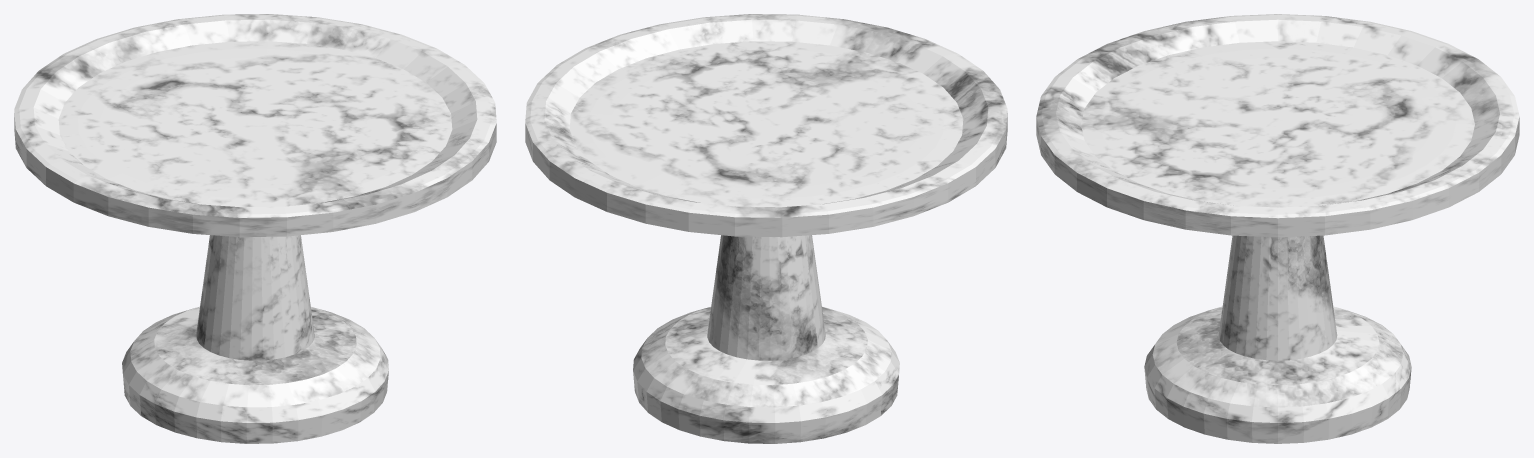
Rendered from MESAuNITY.fbx.
3 renders of one model, left to right at view 1: azimuth 30°, elevation 25°; view 2: azimuth 150°, elevation 25°; view 3: azimuth 270°, elevation 25°, orthographic.
Visible parts, largest first — view 1: Mesa; view 2: Mesa; view 3: Mesa.
Part boxes in pixels (bbox=[...]): Mesa: bbox=[14, 14, 496, 443]; Mesa: bbox=[525, 14, 1007, 443]; Mesa: bbox=[1036, 14, 1519, 443].
Size of the model in its own units: 302 by 189 by 302.
Materials: 1 (1 with a texture image).
